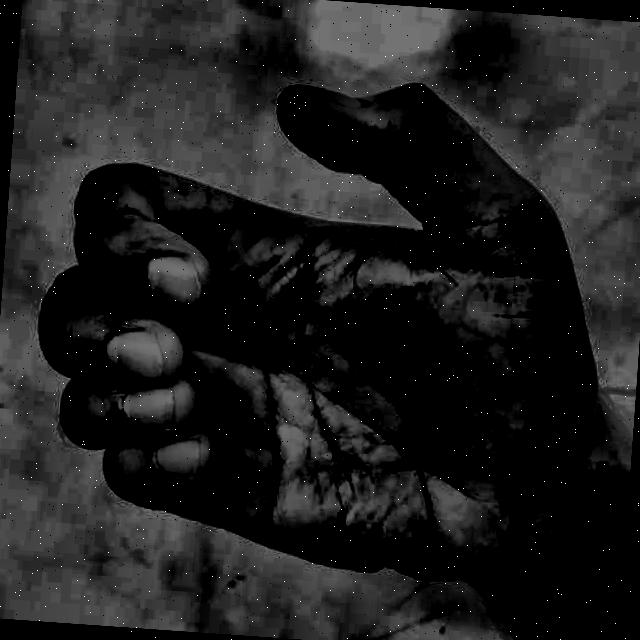Dho: (6, 48, 622, 629)
